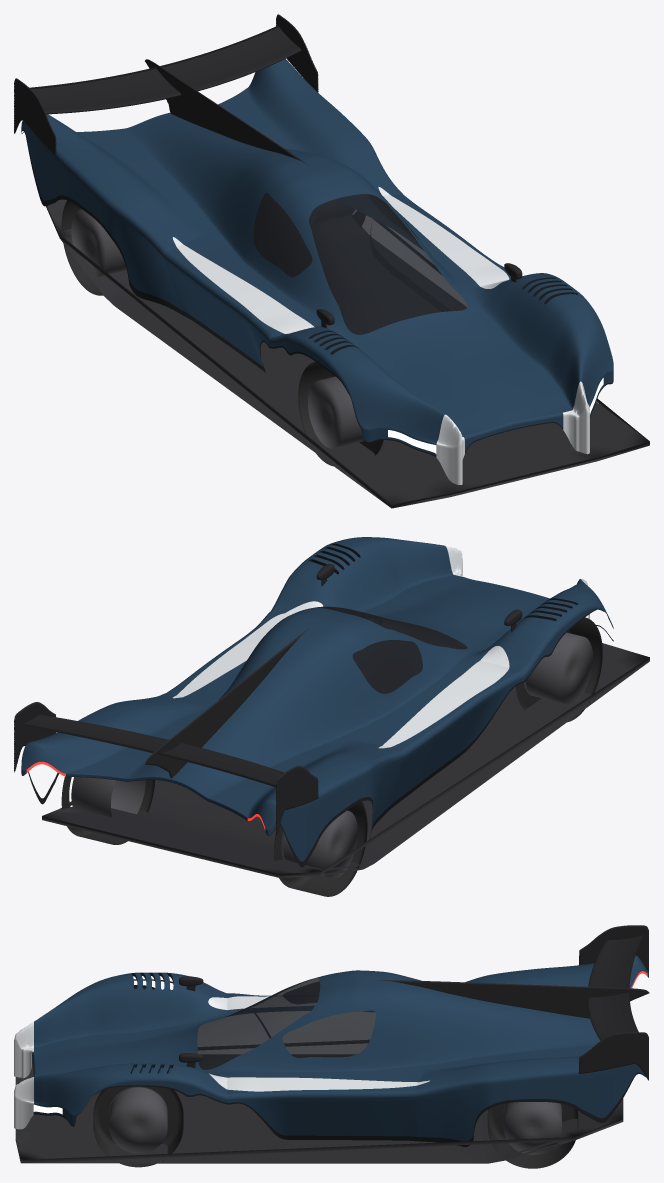
The model's file is manta_lmh.glb.
3 views of the same model, one above another, from view 1: azimuth 30°, elevation 25°; view 2: azimuth 150°, elevation 25°; view 3: azimuth 270°, elevation 25° (orthographic). The views are drawn at different scales.
Visible parts, largest first — view 1: top_shell_skin, context, rear_wing, dorsal_fin, endplates, louvre_liners; view 2: top_shell_skin, context, rear_wing, dorsal_fin, endplates, louvre_liners; view 3: top_shell_skin, context, dorsal_fin, rear_wing, endplates, mirrors.
Boxes of the visible parts, x1,y1,x2,y2 form: top_shell_skin: [21, 59, 613, 484]; context: [46, 193, 649, 508]; rear_wing: [29, 25, 301, 114]; dorsal_fin: [145, 59, 308, 165]; endplates: [14, 14, 318, 156]; louvre_liners: [308, 277, 577, 354]; top_shell_skin: [21, 537, 613, 867]; context: [42, 617, 649, 896]; rear_wing: [18, 714, 284, 787]; dorsal_fin: [145, 628, 309, 778]; endplates: [14, 702, 318, 836]; louvre_liners: [308, 543, 577, 620]; top_shell_skin: [14, 955, 648, 1146]; context: [15, 985, 623, 1168]; dorsal_fin: [379, 980, 649, 1018]; rear_wing: [587, 934, 643, 1040]; endplates: [578, 925, 648, 1080]; mirrors: [179, 976, 203, 1068].
Bounding box in the file's own units: 2 × 1.21 × 5.
